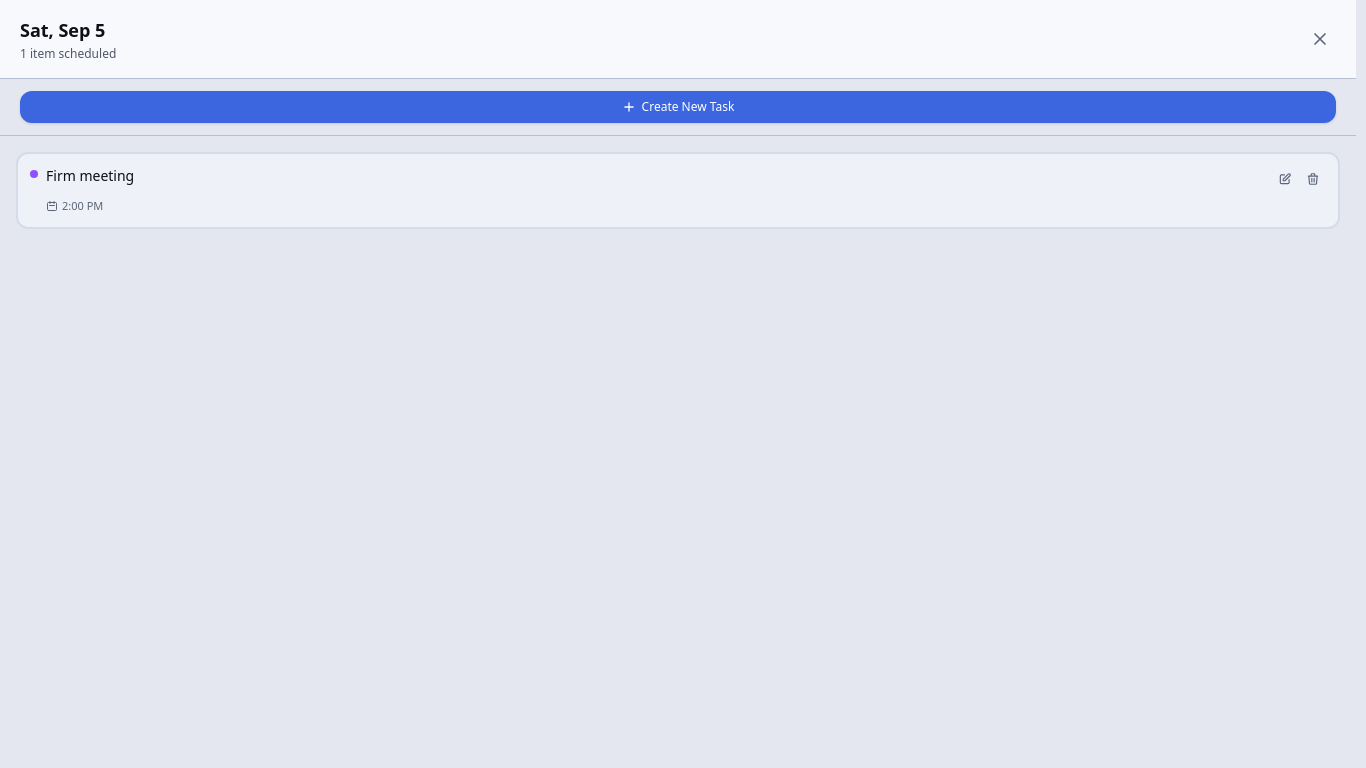
Test: event completion toggle › offers the toggle for a firm-owned event
Click the heading "Firm meeting": click(90, 176) [46,166,134,186]
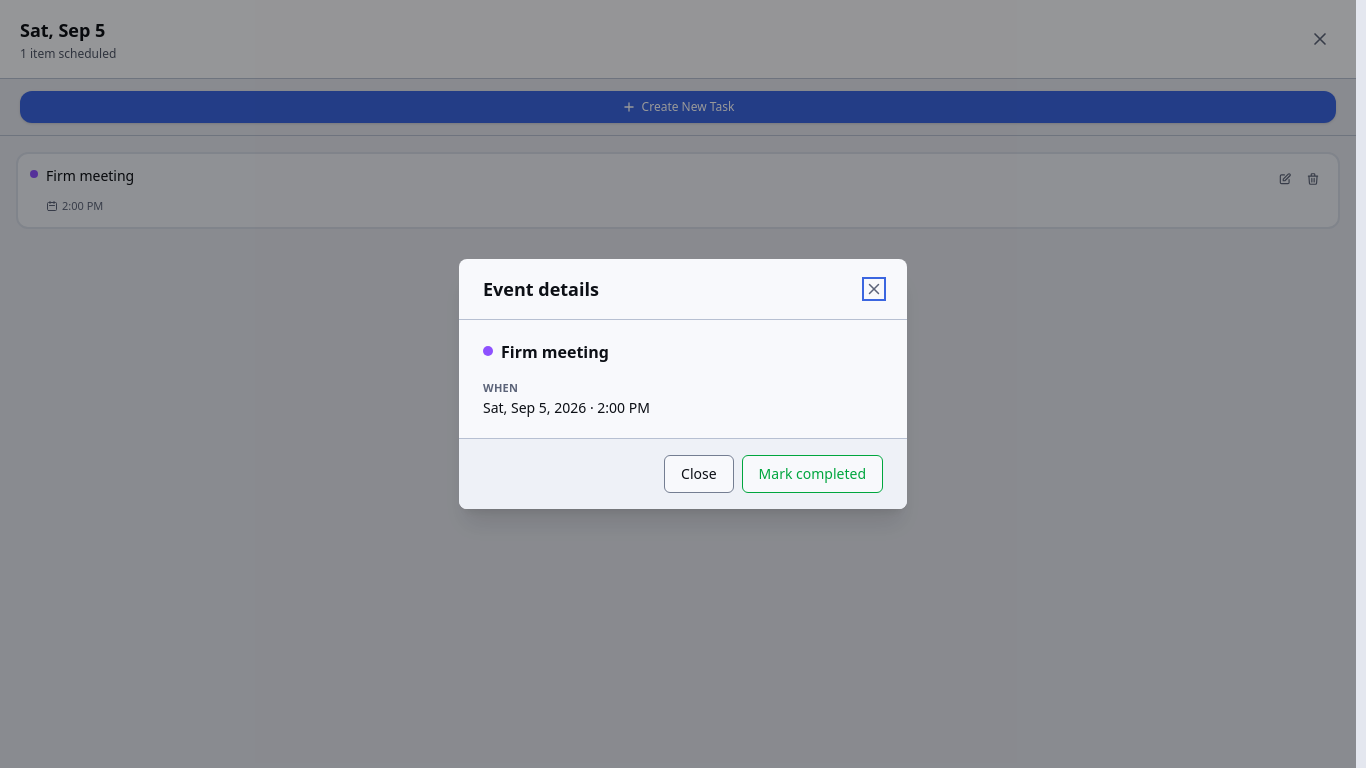
Result: the button "Mark completed" is shown at [742,455,883,493]
